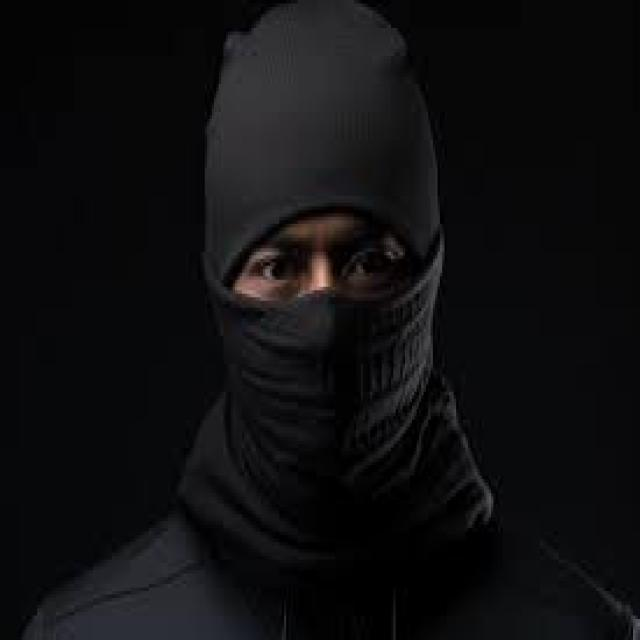person-with-mask: (89, 0, 612, 640)
